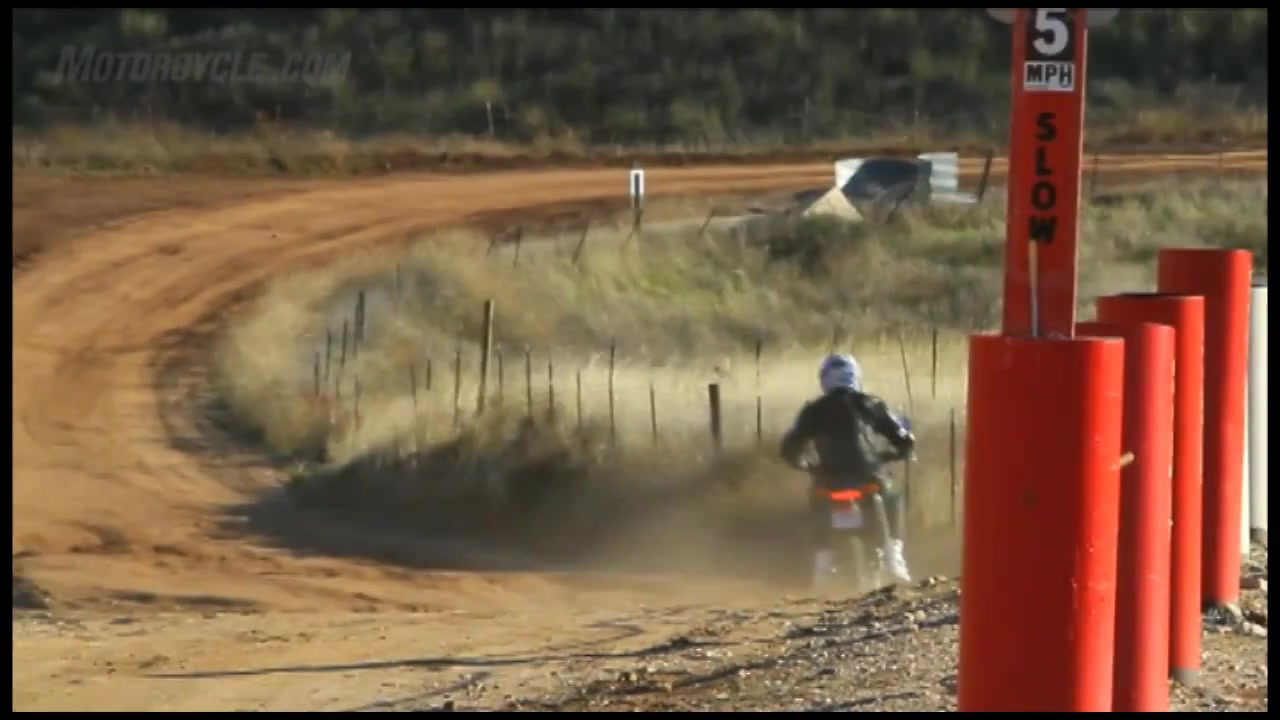motorbike: (800, 408, 918, 603)
